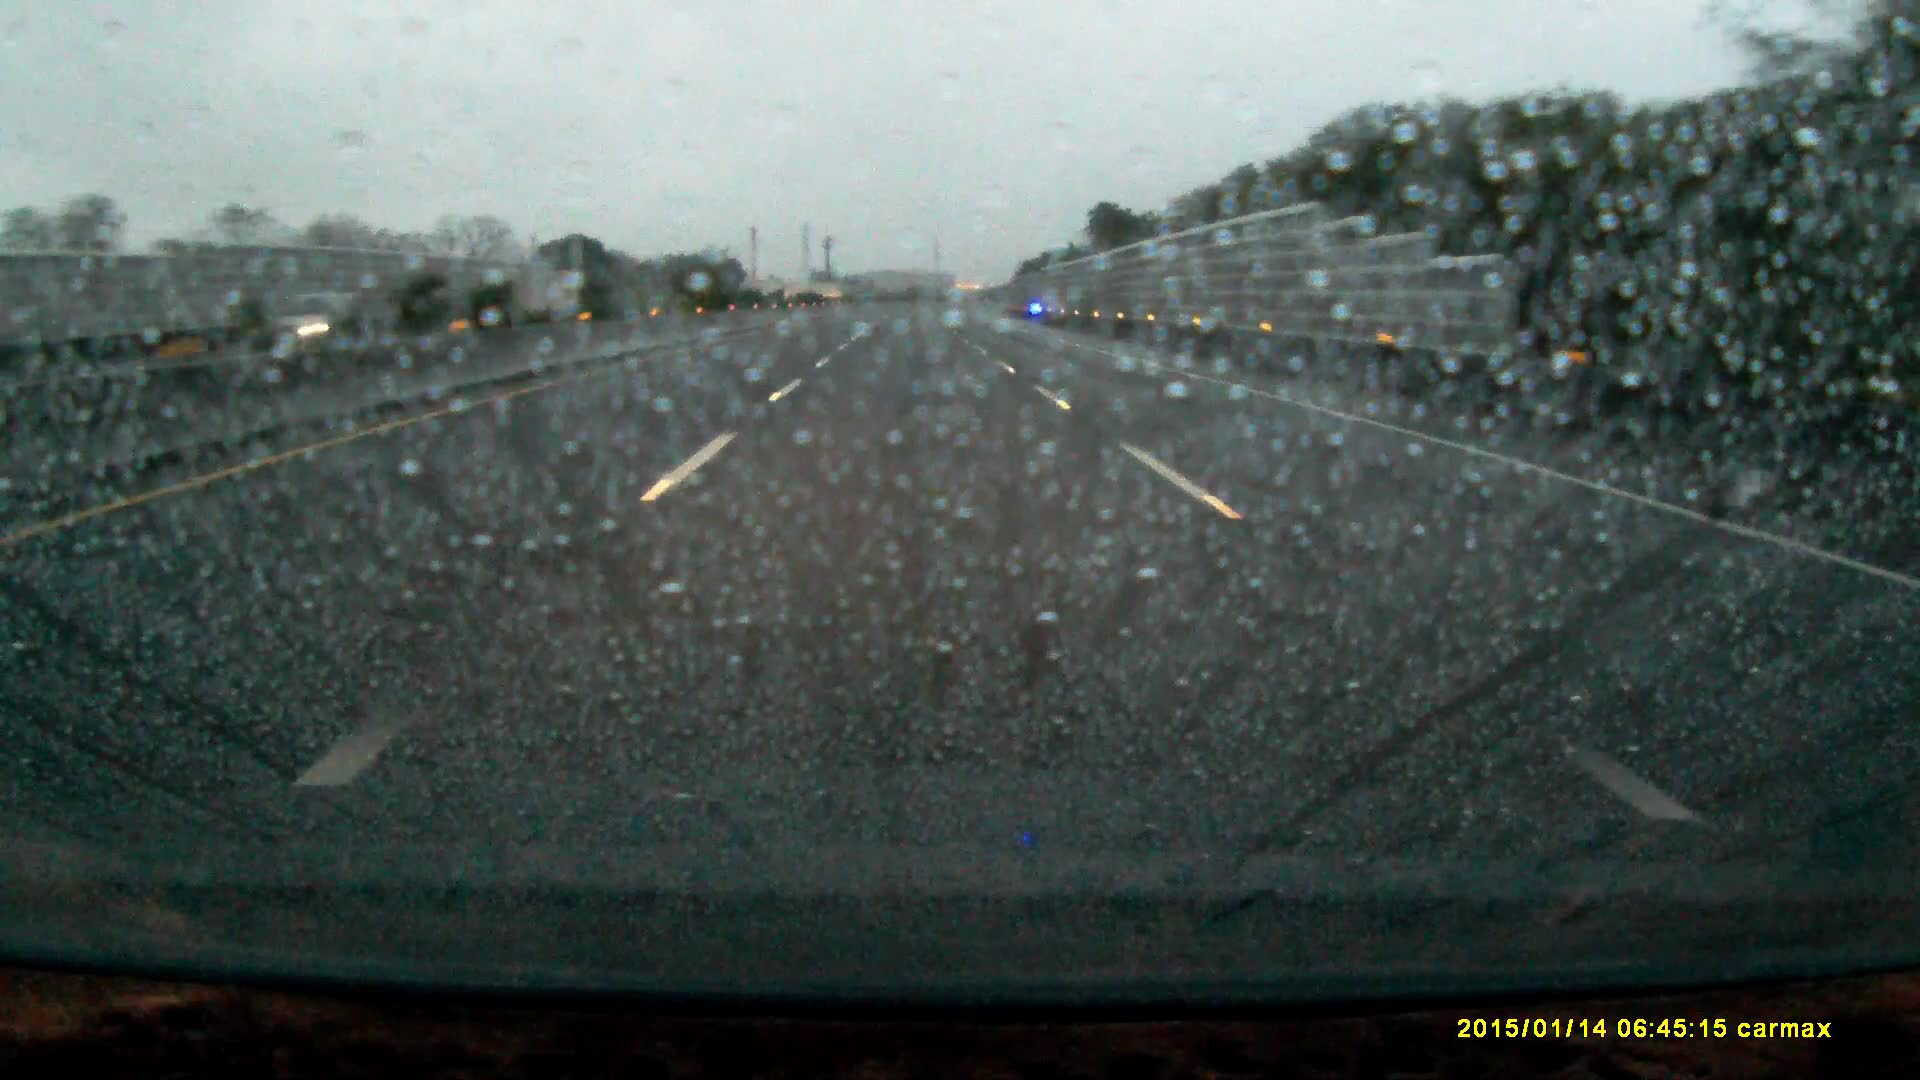vehicle: (258, 291, 359, 342)
